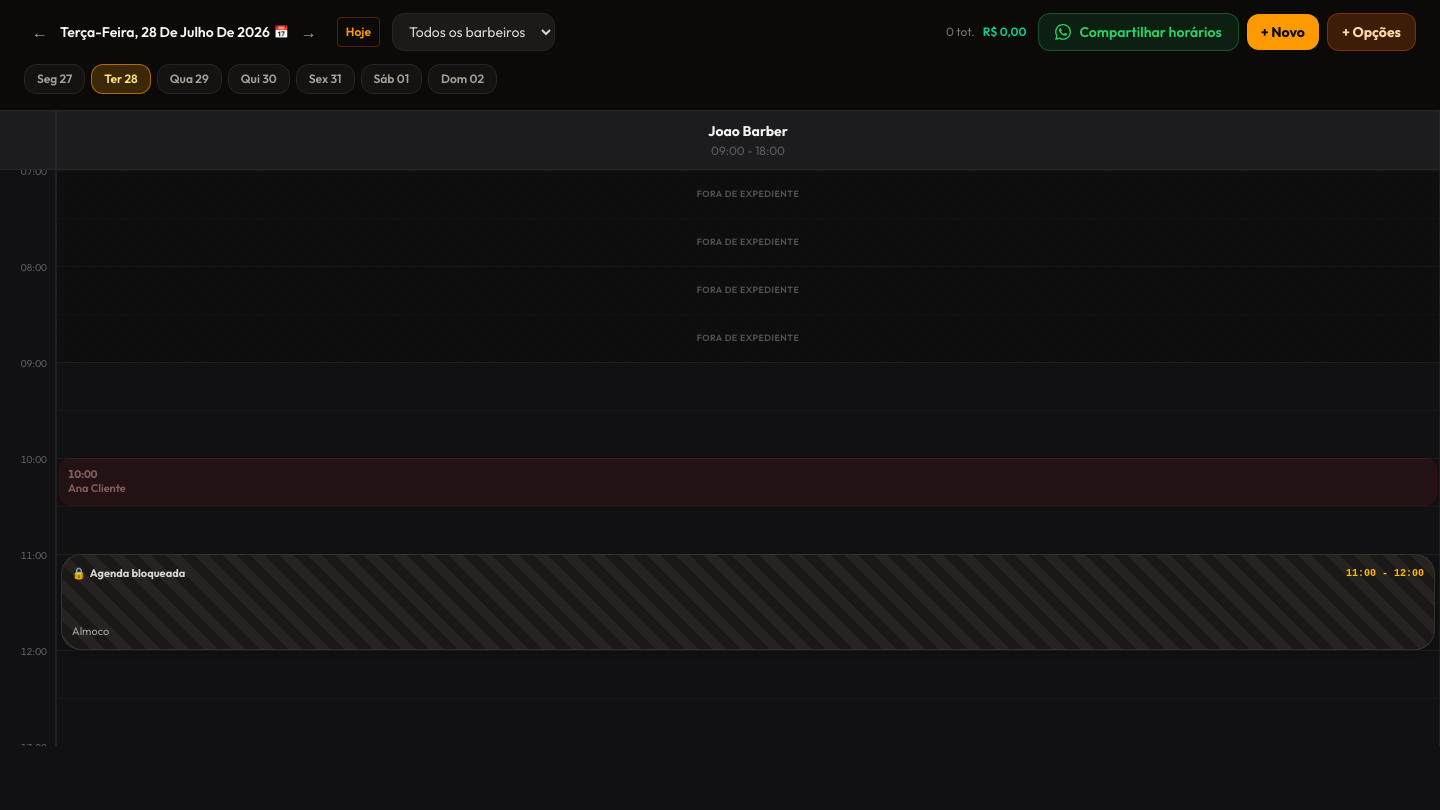
Test: Agenda operations UI › CANCELLED permite excluir
Step 1. Click the text "Ana Cliente" → (97, 488), box [68,481,126,495]
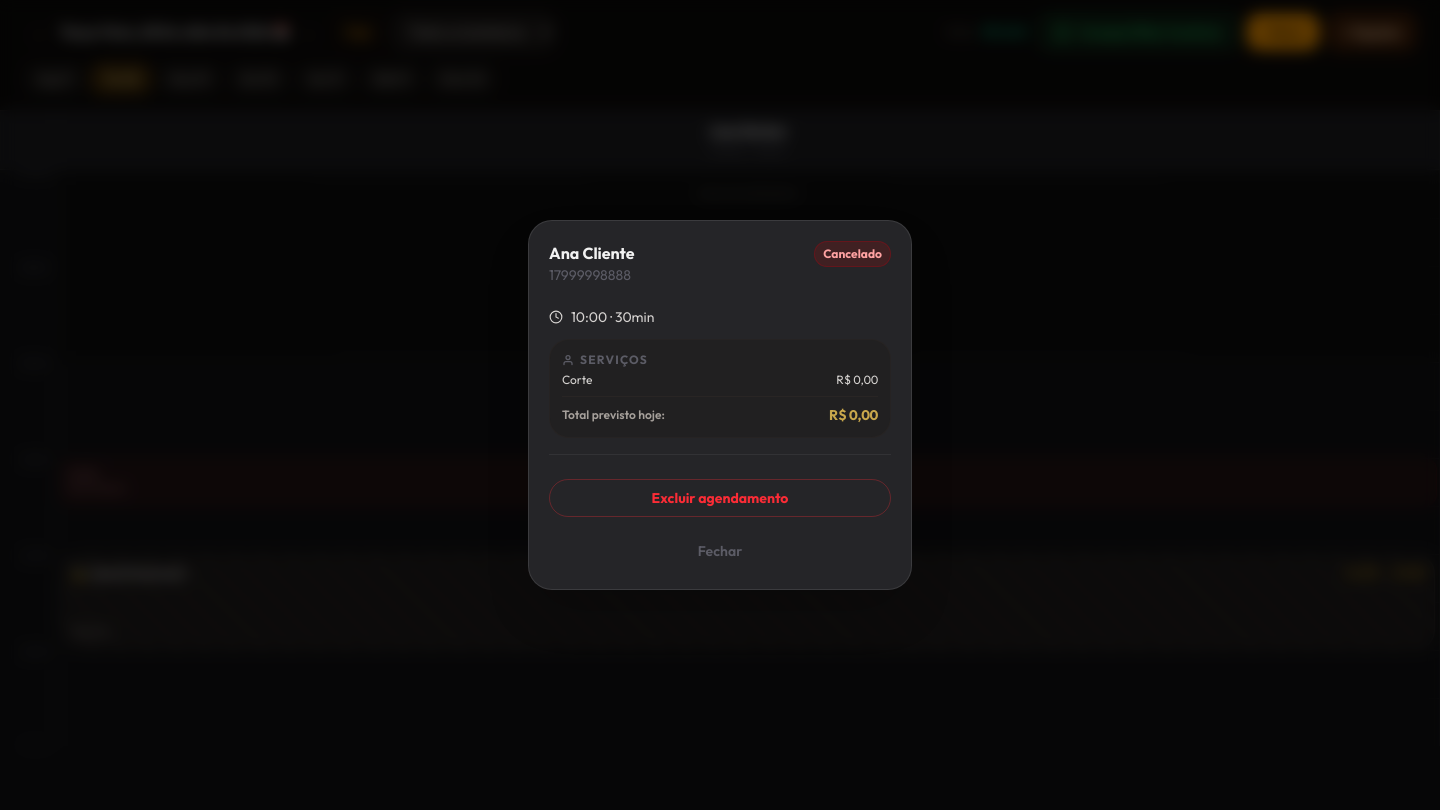
Expected: the button "Excluir agendamento" is shown, [549,479,891,517]
